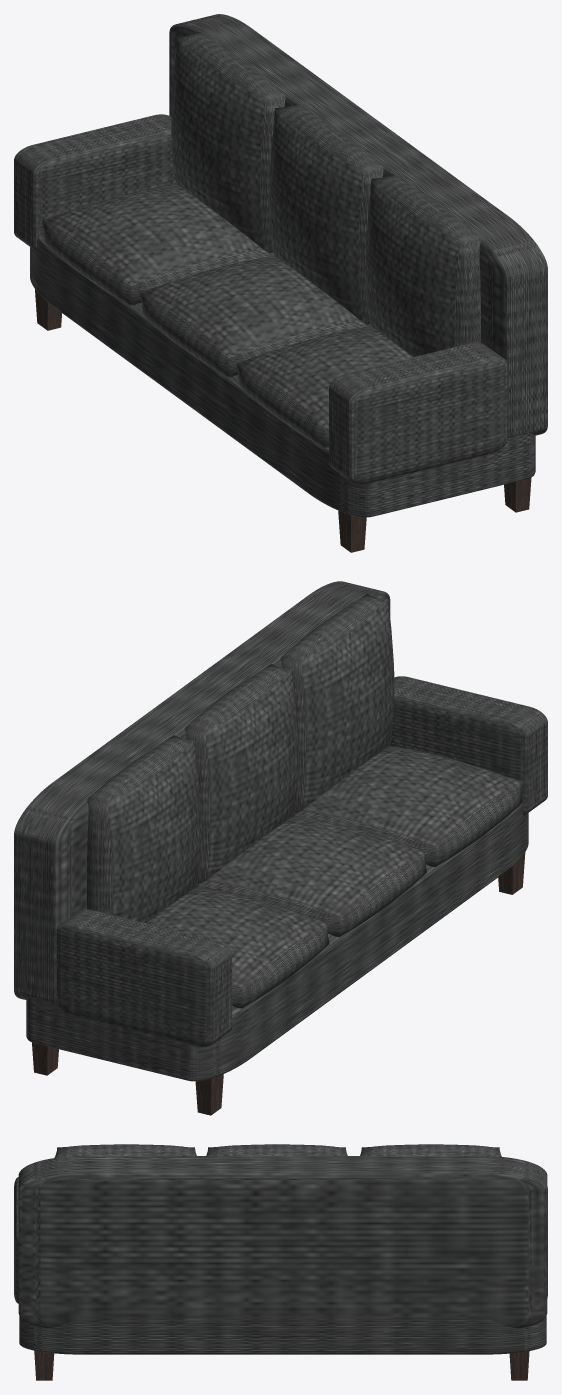
Rendered from couch1.obj.
3 views of the same model, one above another, from view 1: azimuth 30°, elevation 25°; view 2: azimuth 150°, elevation 25°; view 3: azimuth 270°, elevation 25° (orthographic). The views are drawn at different scales.
Parts seen in each view (by area): view 1: Cube.004, Cube.007, Cube.009_Cube.011, Cube.006, Cube.013, Cube.010_Cube.005, Cube.005_Cube.010, Cube.011_Cube.009, Cube.008, Cube.012, Cube, Cube.001 (+1 smaller); view 2: Cube.004, Cube.007, Cube.008, Cube.006, Cube.010_Cube.005, Cube.013, Cube.011_Cube.009, Cube.012, Cube.009_Cube.011, Cube.005_Cube.010, Cube.003, Cube.002 (+1 smaller); view 3: Cube.007, Cube.004, Cube.013, Cube.006, Cube.010_Cube.005, Cube.009_Cube.011, Cube.001, Cube.002.
Boxes of the visible parts, x1,y1,x2,y2 form: Cube.004: (30, 235, 535, 517); Cube.007: (169, 14, 547, 438); Cube.009_Cube.011: (329, 342, 508, 484); Cube.006: (171, 31, 286, 252); Cube.013: (365, 173, 480, 356); Cube.010_Cube.005: (269, 103, 384, 324); Cube.005_Cube.010: (42, 184, 273, 305); Cube.011_Cube.009: (140, 256, 370, 377); Cube.008: (14, 114, 175, 250); Cube.012: (236, 326, 412, 447); Cube: (338, 510, 366, 552); Cube.001: (504, 477, 531, 512); Cube.004: (26, 803, 528, 1081); Cube.007: (14, 581, 390, 1003); Cube.008: (56, 909, 232, 1047); Cube.006: (87, 735, 201, 923); Cube.010_Cube.005: (184, 664, 298, 883); Cube.013: (280, 593, 394, 813); Cube.011_Cube.009: (197, 816, 427, 937); Cube.012: (294, 746, 522, 867); Cube.009_Cube.011: (390, 676, 547, 815); Cube.005_Cube.010: (147, 887, 329, 1008); Cube.003: (195, 1074, 223, 1115); Cube.002: (32, 1042, 58, 1075); Cube.007: (18, 1156, 547, 1328); Cube.004: (19, 1316, 546, 1354); Cube.013: (54, 1144, 196, 1157); Cube.006: (360, 1144, 501, 1156); Cube.010_Cube.005: (206, 1144, 347, 1156); Cube.009_Cube.011: (14, 1177, 18, 1303); Cube.001: (34, 1350, 54, 1380); Cube.002: (509, 1351, 529, 1380).
Bounding box in the file's own units: 20.49 × 25.6 × 57.
6 materials, 6 textured.
